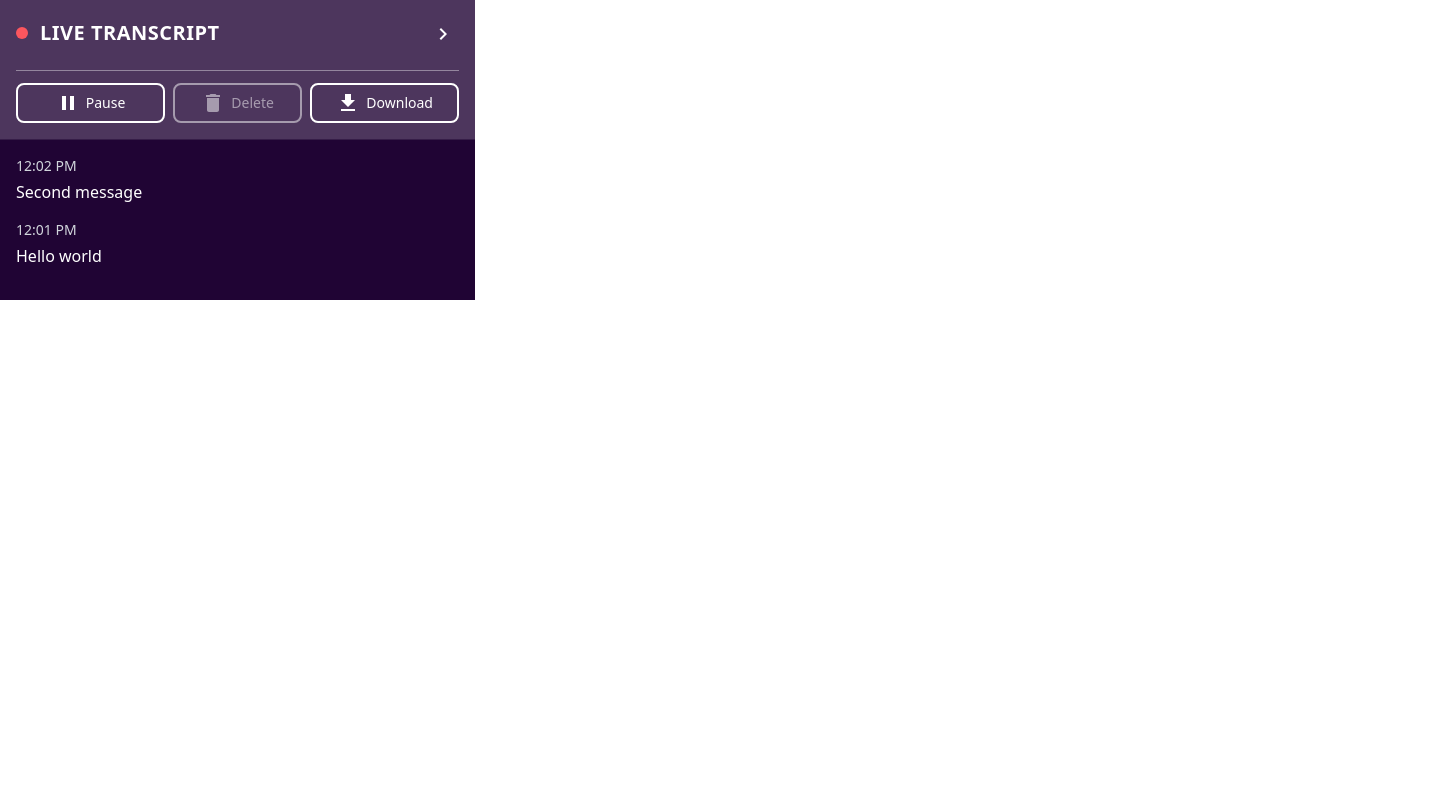
Test: Transcript › Transcript Controls › shows error when pause API fails
Click the button with aria-label "Pause recording": click(91, 103) [16,83,165,123]
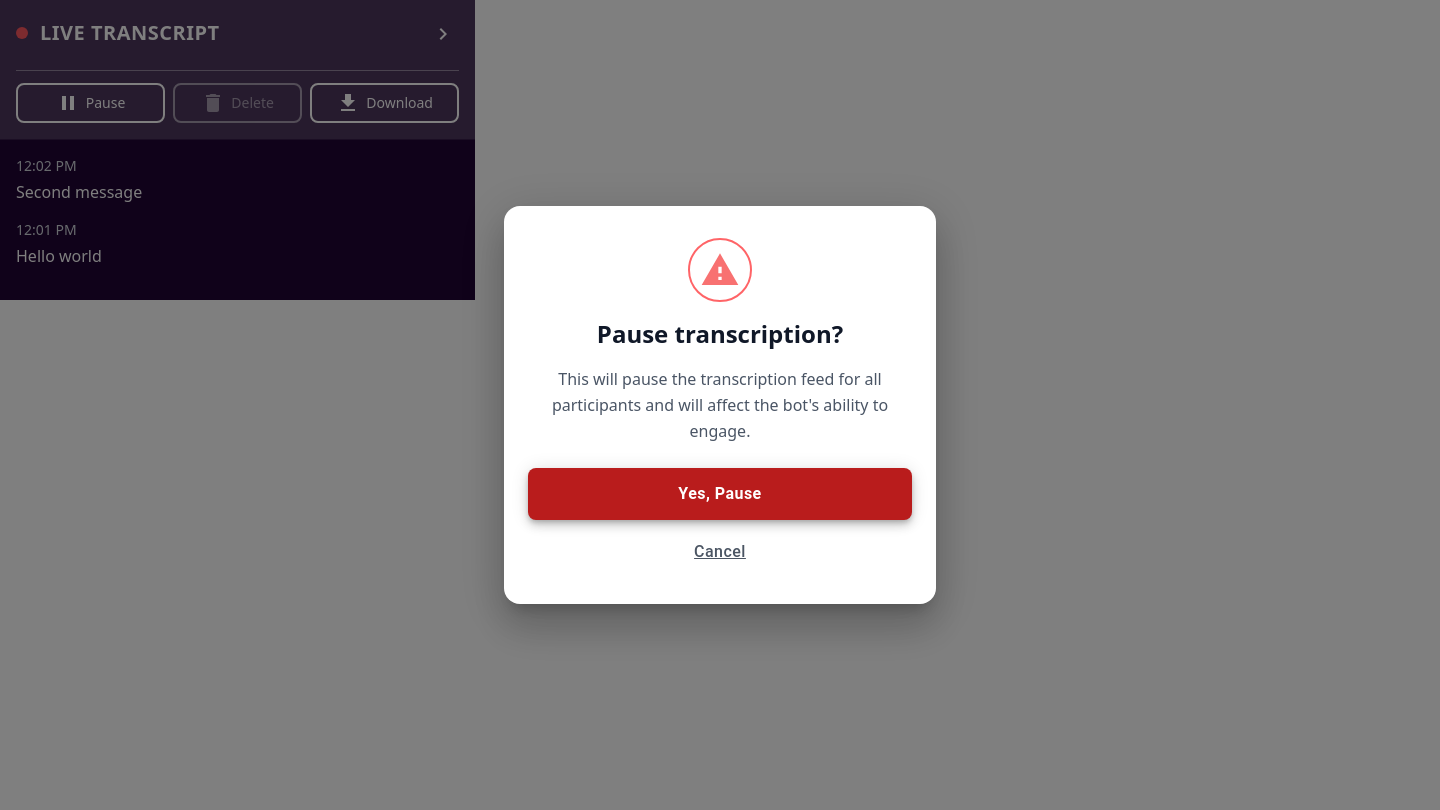
Result: the button "Yes, Pause" is shown
Click the button "Yes, Pause": click(720, 494) [528,468,912,520]
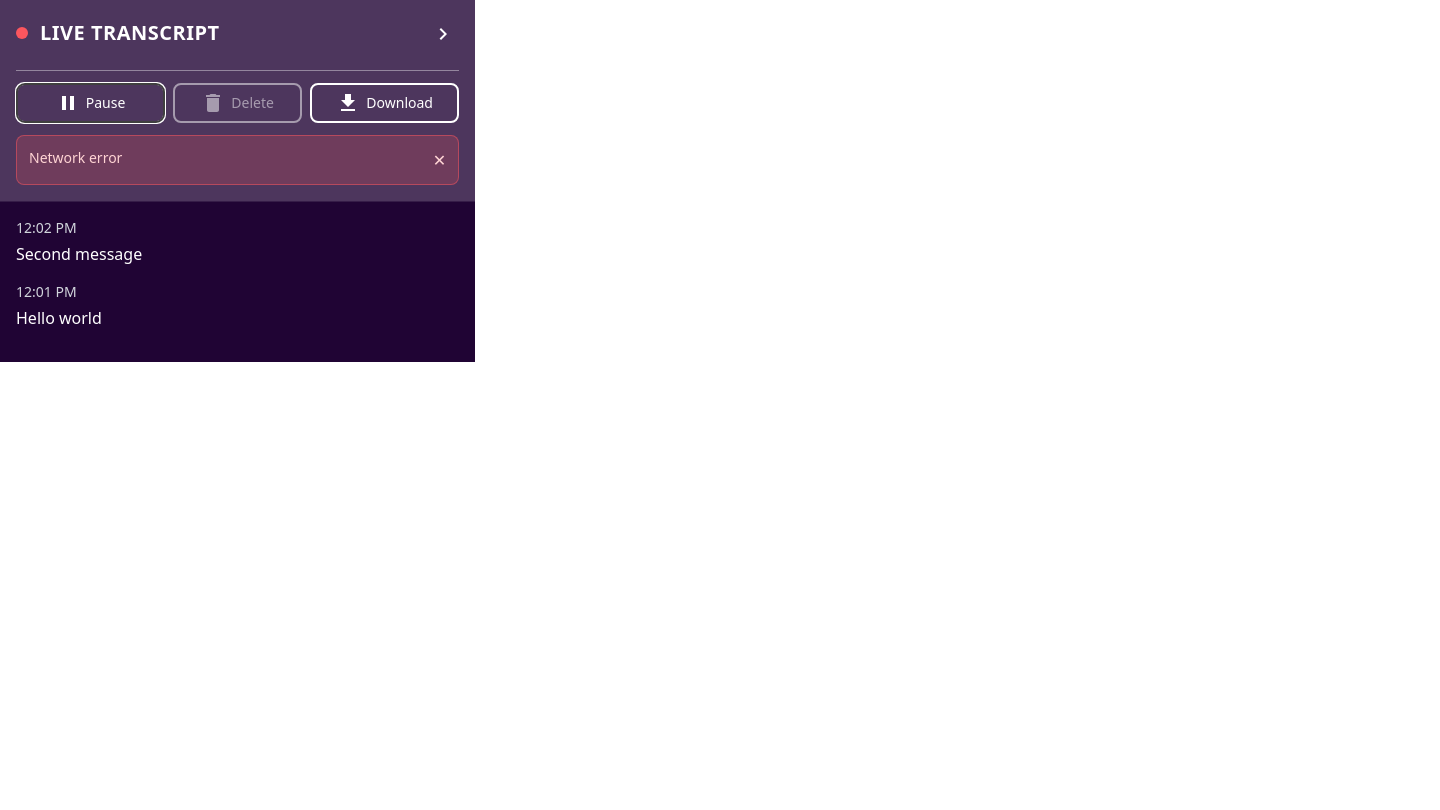
Result: the text "Network error" is shown at [29,148,122,168]
